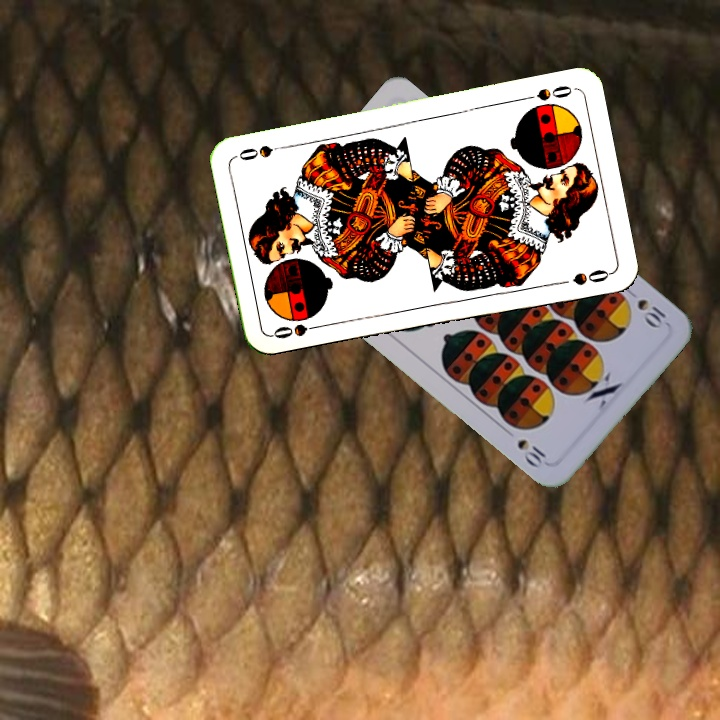S10: (622, 284, 670, 332)
SO: (518, 81, 577, 104), (269, 320, 327, 342)
